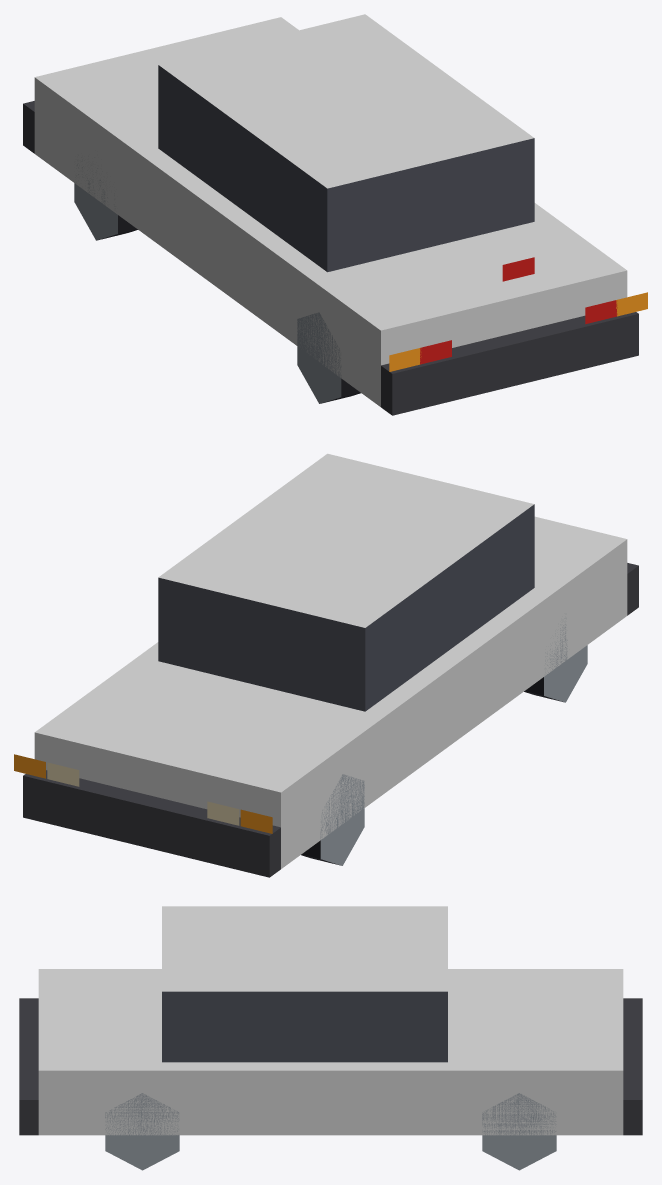
The model's file is calib_traffic_lod1.glb.
3 renders of one model, top to bottom at view 1: azimuth 30°, elevation 25°; view 2: azimuth 150°, elevation 25°; view 3: azimuth 270°, elevation 25°, orthographic. The views are drawn at different scales.
Visible parts, largest first — view 1: Body, Wheel_RL, Wheel_FL; view 2: Body, Wheel_FL, Wheel_RL; view 3: Body, Wheel_FR, Wheel_RR.
Part boxes in pixels (<box>): Body: <box>23,14,647,415</box>; Wheel_RL: <box>297,312,360,403</box>; Wheel_FL: <box>74,155,137,240</box>; Body: <box>14,453,638,877</box>; Wheel_FL: <box>301,774,364,865</box>; Wheel_RL: <box>524,618,587,702</box>; Body: <box>19,906,642,1135</box>; Wheel_FR: <box>482,1093,556,1170</box>; Wheel_RR: <box>105,1093,179,1170</box>.
Size of the model in its own units: 1.94 by 1.45 by 4.88.
